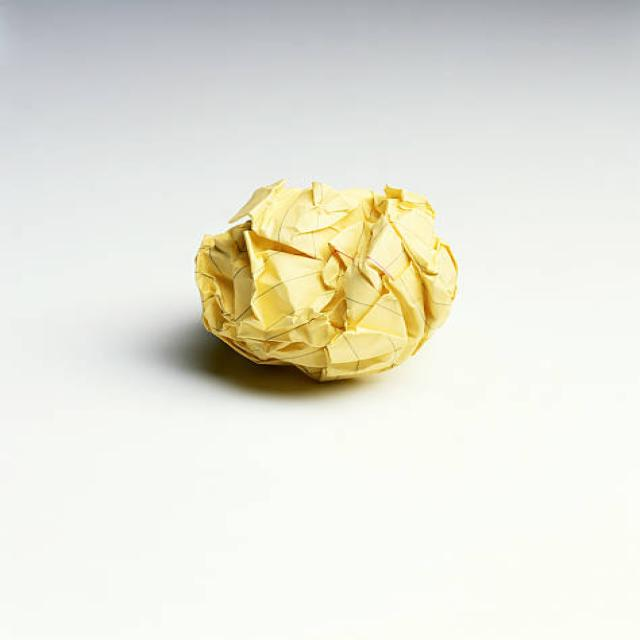electronic: (193, 176, 459, 382)
